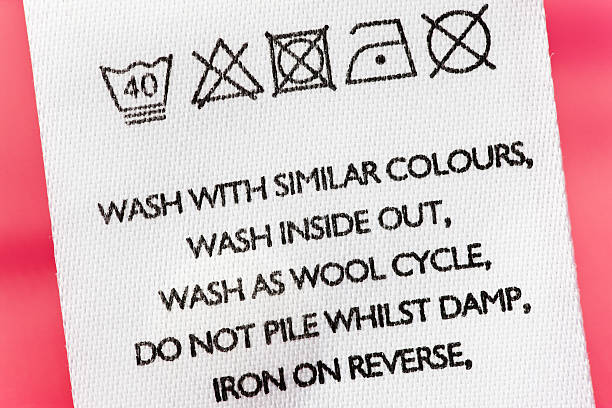ER_iron_low_temp: (344, 14, 421, 93)
ER_no_bleach: (186, 28, 267, 110)
ER_no_dry_clean: (418, 1, 516, 86)
ER_no_tumble_dry: (265, 21, 345, 98)
ER_wash_40_mild: (90, 47, 177, 133)
